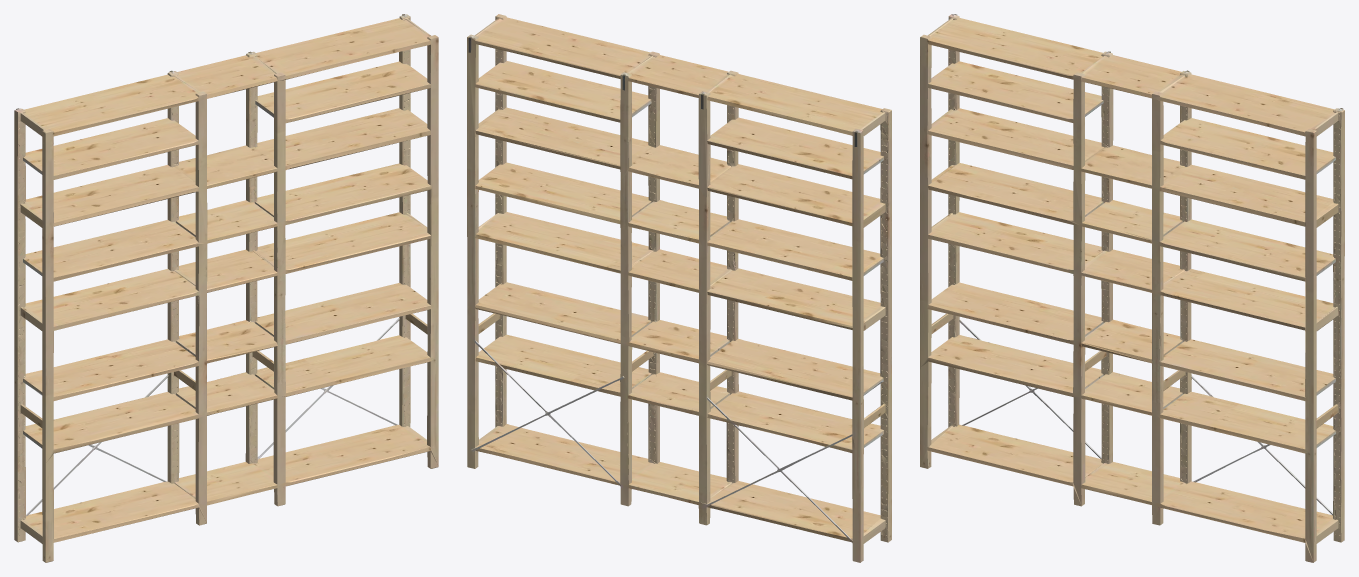
3 views of the same model, side by side, from view 1: azimuth 30°, elevation 25°; view 2: azimuth 150°, elevation 25°; view 3: azimuth 330°, elevation 25° (orthographic).
Parts seen in each view (by area): view 1: ProcessedMeshNode; view 2: ProcessedMeshNode; view 3: ProcessedMeshNode.
Boxes of the visible parts, x1,y1,x2,y2 form: ProcessedMeshNode: [14, 14, 438, 562]; ProcessedMeshNode: [467, 14, 891, 562]; ProcessedMeshNode: [920, 14, 1344, 562].
Bounding box in the file's own units: 2.17 × 2.27 × 0.3116.
1 material, 1 textured.
